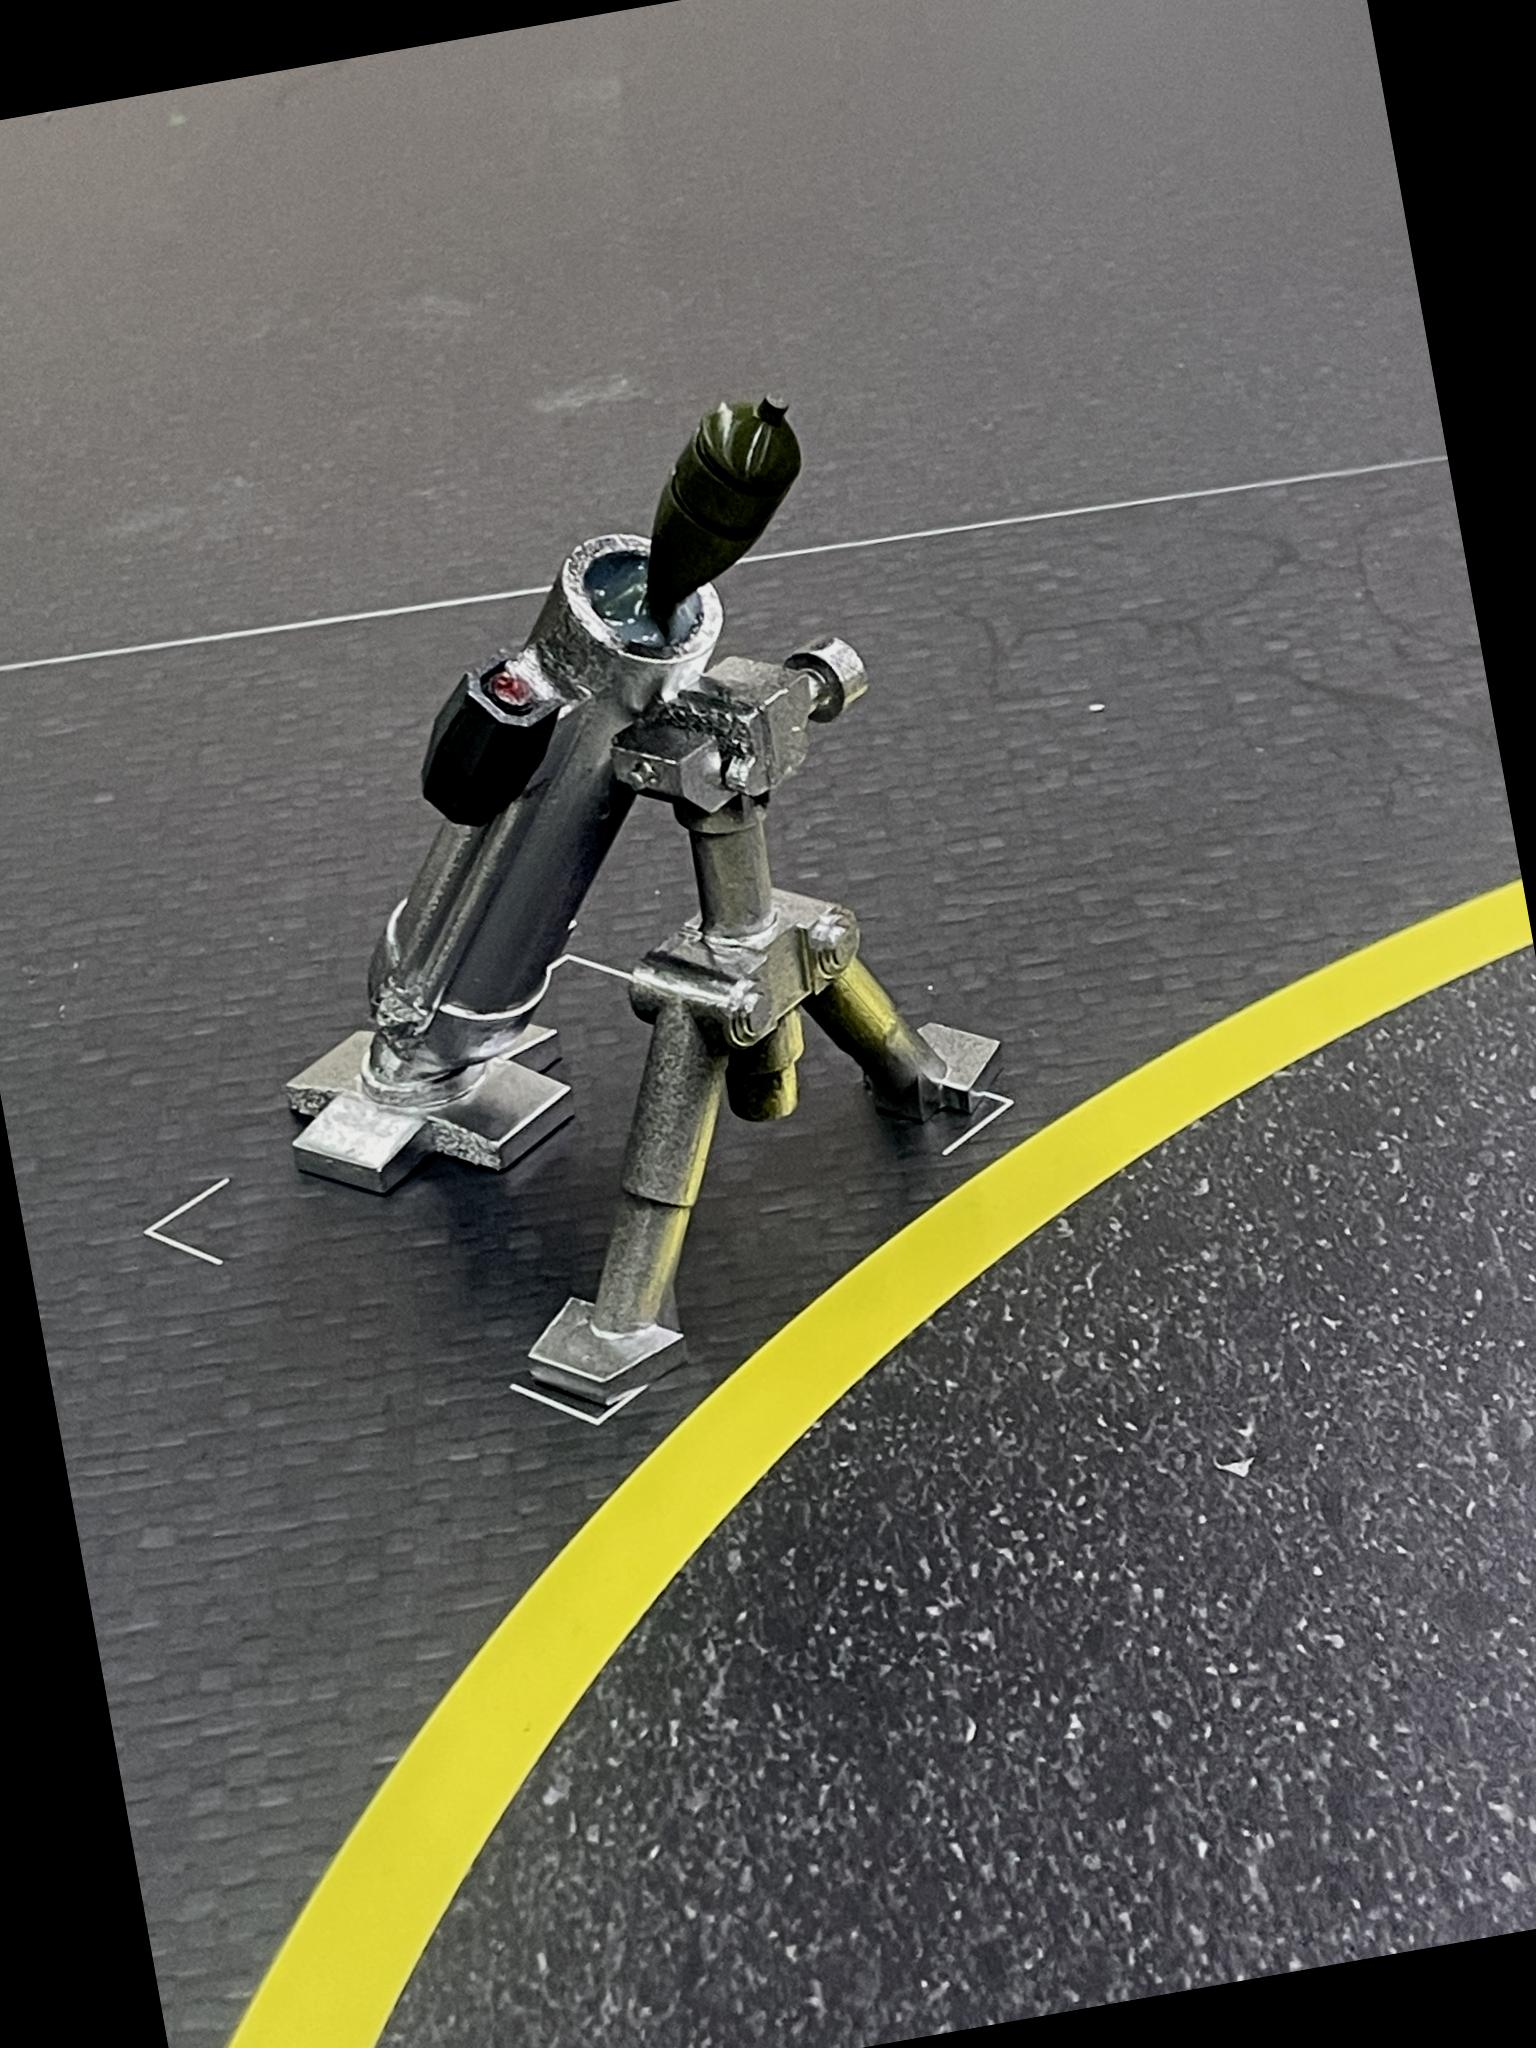Mortar: (161, 356, 1073, 1484)
